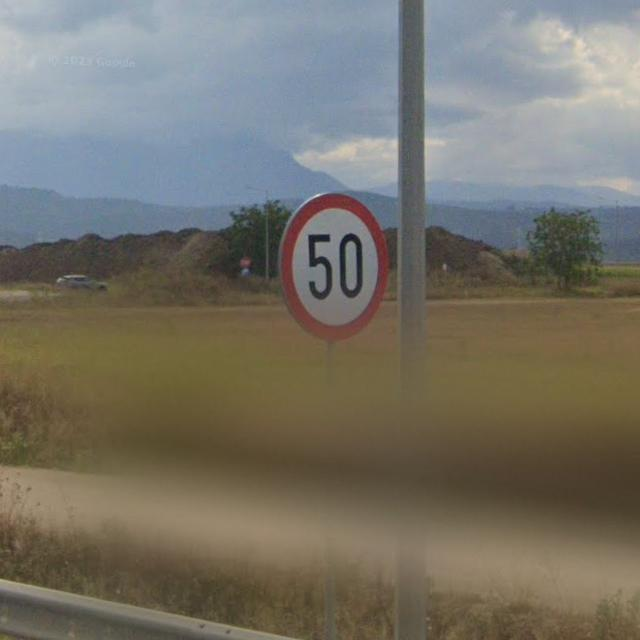forb_speed_over_50: (279, 194, 389, 348)
